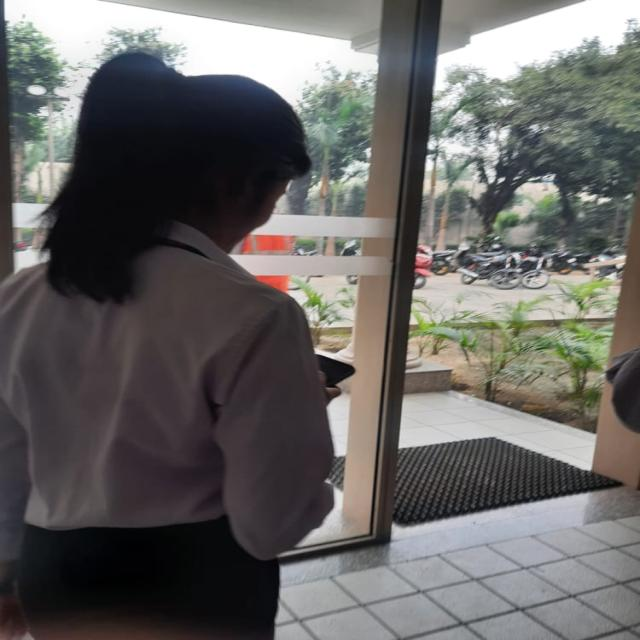unsafe: (2, 49, 354, 640)
